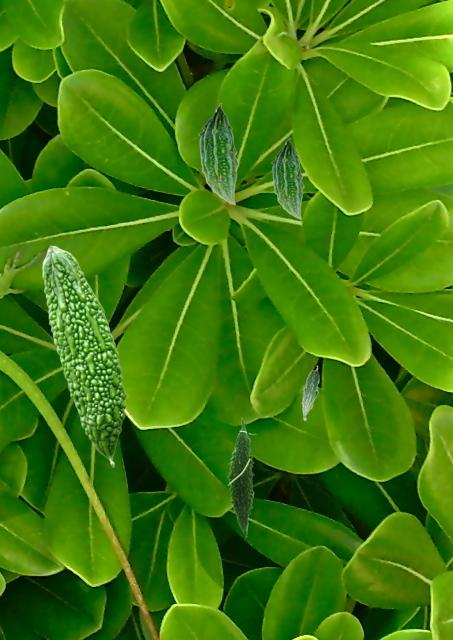ampalaya: (41, 245, 128, 468), (198, 102, 239, 205), (226, 417, 258, 537), (271, 137, 304, 220), (301, 365, 319, 421)
